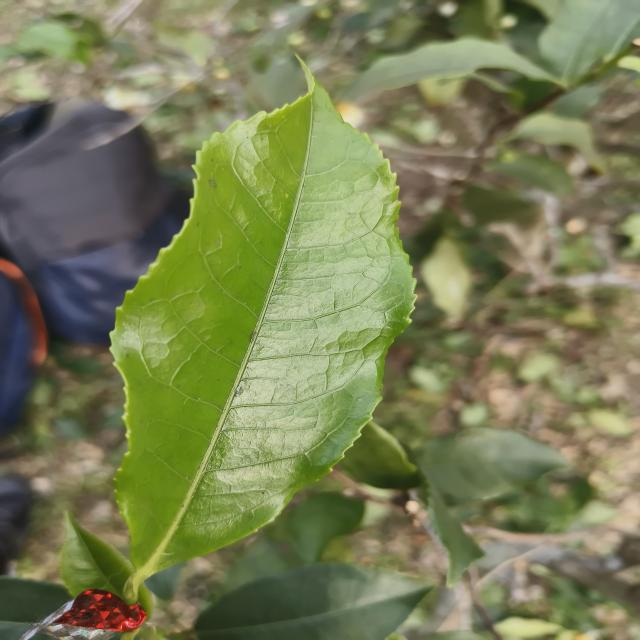Leaf: (111, 69, 414, 589), (194, 563, 432, 640), (340, 38, 551, 100), (414, 428, 568, 503), (538, 0, 640, 84), (60, 512, 133, 596), (508, 112, 603, 171), (286, 492, 364, 563), (341, 421, 421, 490), (420, 236, 471, 317), (489, 150, 573, 194)
